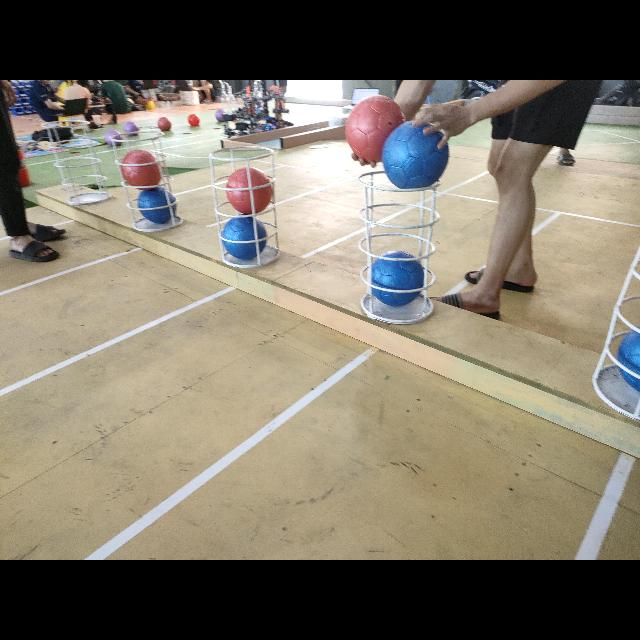B: (380, 122, 450, 188), (373, 248, 425, 306), (219, 213, 269, 260), (136, 186, 178, 224), (616, 330, 640, 394)
R: (343, 94, 409, 160), (225, 168, 273, 216), (114, 146, 166, 190)
